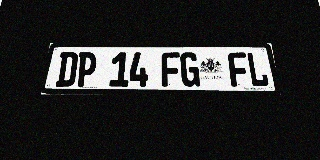1: (109, 52, 130, 87)
4: (129, 52, 148, 87)
D: (55, 52, 79, 87)
F: (227, 52, 250, 87), (161, 52, 181, 87)
G: (180, 52, 200, 87)
L: (246, 52, 270, 87)
P: (75, 52, 97, 87)
